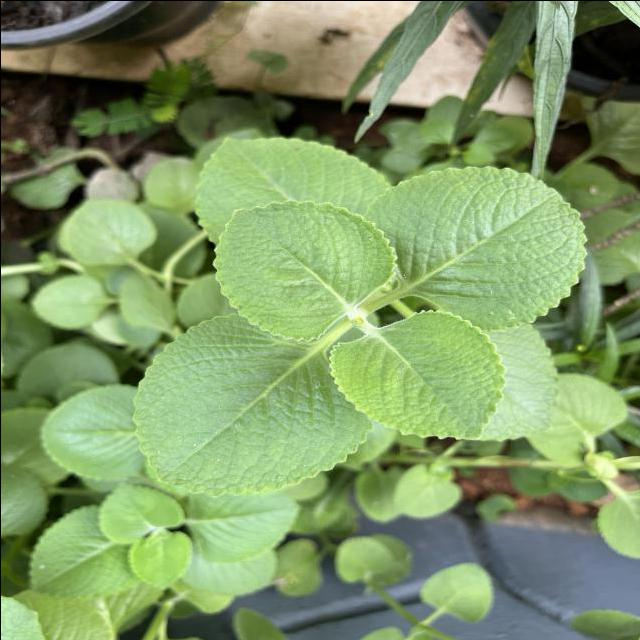Plectranthus barbatus: (130, 312, 372, 498), (361, 162, 587, 332), (209, 196, 397, 343), (324, 307, 506, 441), (193, 133, 386, 222), (25, 502, 138, 598), (38, 382, 143, 484), (181, 490, 301, 566), (95, 483, 183, 545), (125, 530, 193, 590)
